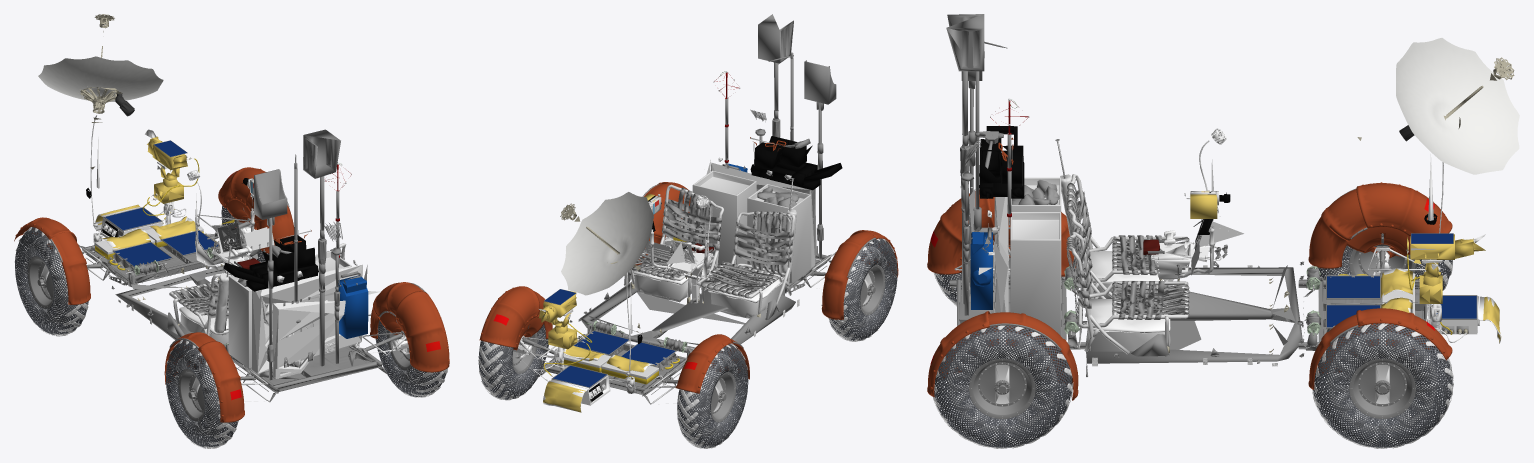
Rendered from lrv.glb.
3 renders of one model, left to right at view 1: azimuth 30°, elevation 25°; view 2: azimuth 150°, elevation 25°; view 3: azimuth 270°, elevation 25°, orthographic. The views are drawn at different scales.
Visible parts, largest first — view 1: LRV Static, Wheel - Front Left, Wheel - Rear Left, Wheel - Rear Right; view 2: LRV Static, Wheel - Front Left, Wheel - Rear Left, Wheel - Front Right; view 3: LRV Static, Wheel - Front Right, Wheel - Rear Right, Wheel - Front Left.
Boxes of the visible parts, x1,y1,x2,y2 form: LRV Static: (14,14,449,422); Wheel - Front Left: (14,227,88,336); Wheel - Rear Left: (165,340,238,448); Wheel - Rear Right: (375,320,447,397); LRV Static: (479,14,898,412); Wheel - Front Left: (677,343,748,448); Wheel - Rear Left: (828,238,897,341); Wheel - Front Right: (478,324,548,400); LRV Static: (927,14,1519,400); Wheel - Front Right: (1312,323,1453,448); Wheel - Rear Right: (933,325,1073,448); Wheel - Front Left: (1312,233,1453,306).
Size of the model in its own units: 1.97 by 2.3 by 3.41.
41 materials, 1 textured.
